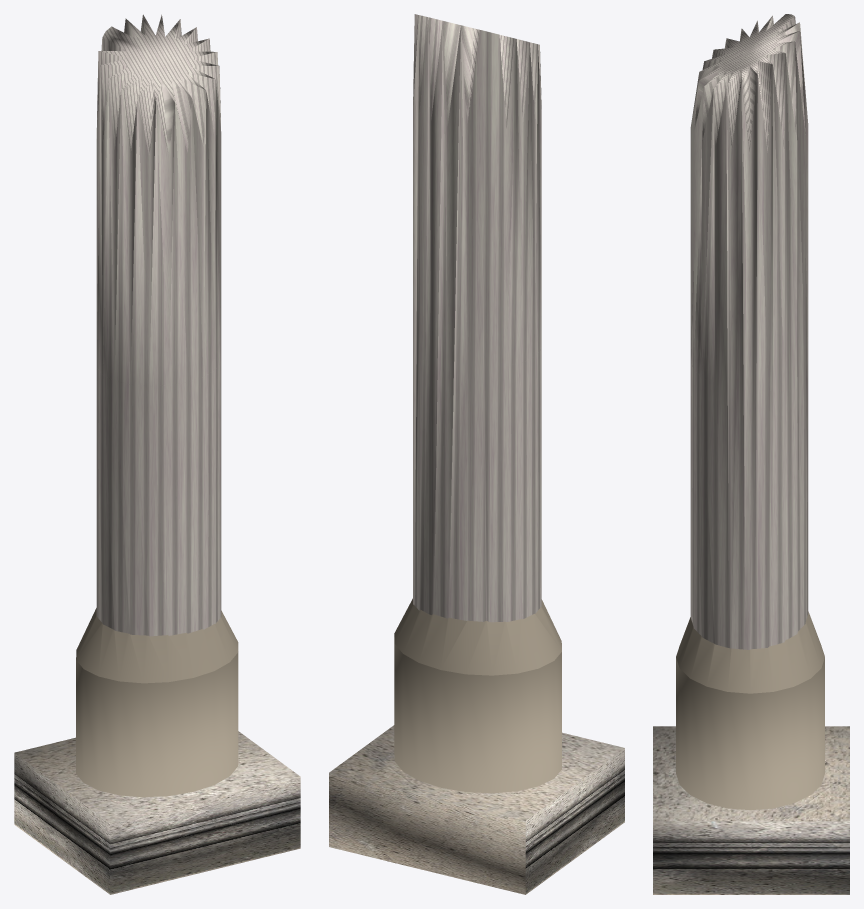
File: pillar3.fbx
3 renders of one model, left to right at view 1: azimuth 30°, elevation 25°; view 2: azimuth 150°, elevation 25°; view 3: azimuth 270°, elevation 25°, orthographic. The views are drawn at different scales.
Parts seen in each view (by area): view 1: polySurface21; view 2: polySurface21; view 3: polySurface21.
Part boxes in pixels (left/top/right/bottom): polySurface21: left=14, top=14, right=300, bottom=894; polySurface21: left=329, top=14, right=624, bottom=894; polySurface21: left=653, top=14, right=849, bottom=894.
Size of the model in its own units: 1.81 by 7.3 by 1.58.
3 materials, 2 textured.
